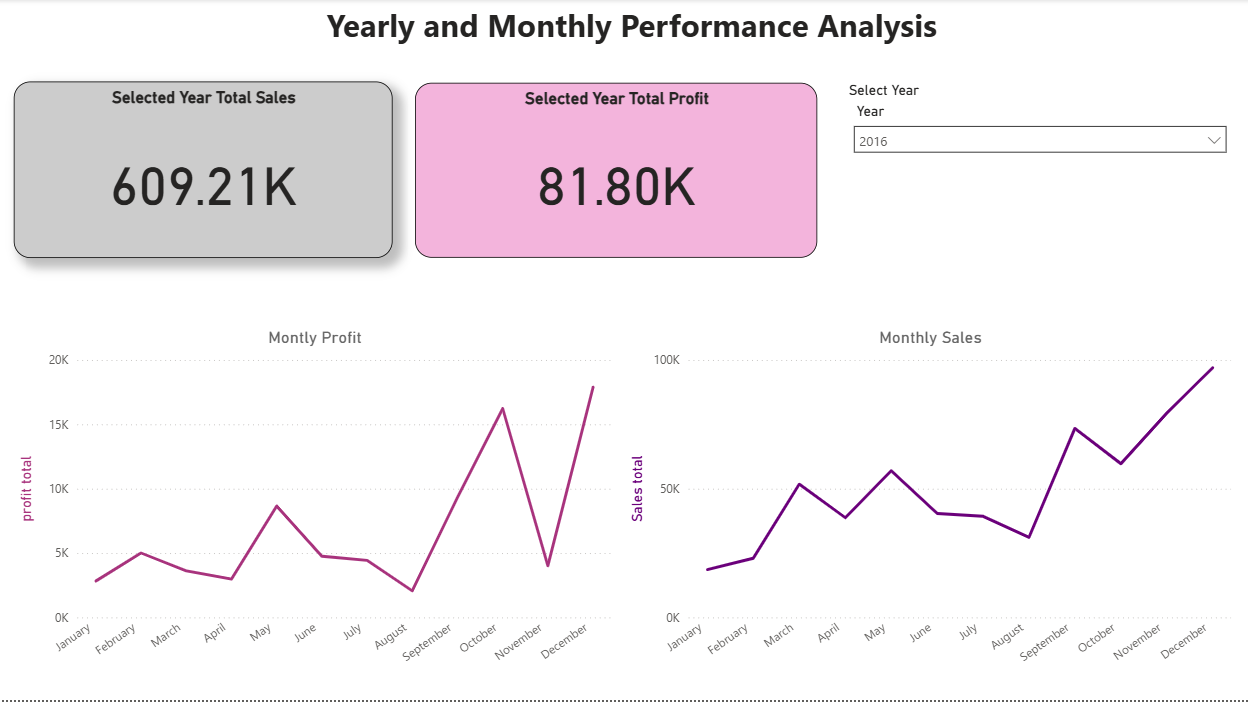

This screenshot's page, from the dashboard's own definition file:
{"tool":"powerbi","page":{"name":"Time Performance Analysis","canvas":[1280,720],"ordinal":1},"visuals":[{"type":"slicer","title":"Select Year","fields":{"Values":["warehouse vw_Monthly_Sales_Trend.Year"]},"box":[864.2,84.5,402,175.4],"z":0},{"type":"card","title":"Selected Year Total Sales","fields":{"Values":["warehouse vw_Monthly_Sales_Trend.Sales total"]},"box":[14.1,84.5,387.9,180.5],"z":1000},{"type":"card","title":"Selected Year Total Profit","fields":{"Values":["warehouse vw_Monthly_Sales_Trend.profit total"]},"box":[425,85.8,412.2,179.2],"z":2000},{"type":"lineChart","title":"Monthly Sales","fields":{"Y":["warehouse vw_Monthly_Sales_Trend.Sales total"],"Category":["warehouse vw_Monthly_Sales_Trend.Month_Name"]},"box":[651.7,336.7,614.5,364.9],"z":3000},{"type":"lineChart","title":"Montly Profit ","fields":{"Y":["warehouse vw_Monthly_Sales_Trend.profit total"],"Category":["warehouse vw_Monthly_Sales_Trend.Month_Name"]},"box":[14.1,336.7,617.1,364.9],"z":4000},{"type":"textbox","box":[14.1,0,1266.2,67.9],"z":5000}]}

Visuals, with their boxes in screenshot pixels (x1, y1, x2, y2), scaled from the page's 1280x720 canvas onto the 1248x702 screenshot:
"Select Year" slicer: pyautogui.locateOnScreen(843, 82, 1235, 253)
"Selected Year Total Sales" card: pyautogui.locateOnScreen(14, 82, 392, 258)
"Selected Year Total Profit" card: pyautogui.locateOnScreen(414, 84, 816, 258)
"Monthly Sales" lineChart: pyautogui.locateOnScreen(635, 328, 1235, 684)
"Montly Profit " lineChart: pyautogui.locateOnScreen(14, 328, 615, 684)
textbox: pyautogui.locateOnScreen(14, 0, 1247, 66)
